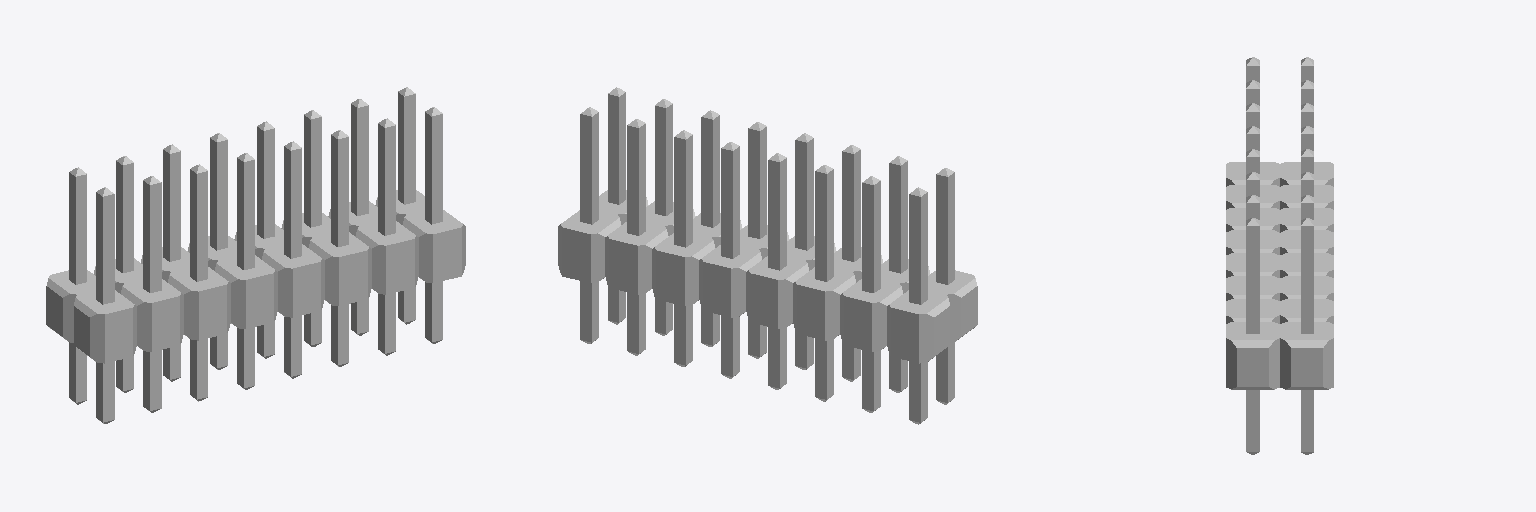
The model's file is HDR.obj.
The picture shows the model from 3 angles: view 1: azimuth 30°, elevation 25°; view 2: azimuth 150°, elevation 25°; view 3: azimuth 270°, elevation 25°; orthographic projection.
Parts seen in each view (by area): view 1: Object.1; view 2: Object.1; view 3: Object.1.
Boxes of the visible parts, <box> form: Object.1: <box>46,87,465,423</box>; Object.1: <box>558,87,977,424</box>; Object.1: <box>1226,57,1333,454</box>.
Bounding box in the file's own units: 20.32 × 12.19 × 5.08.